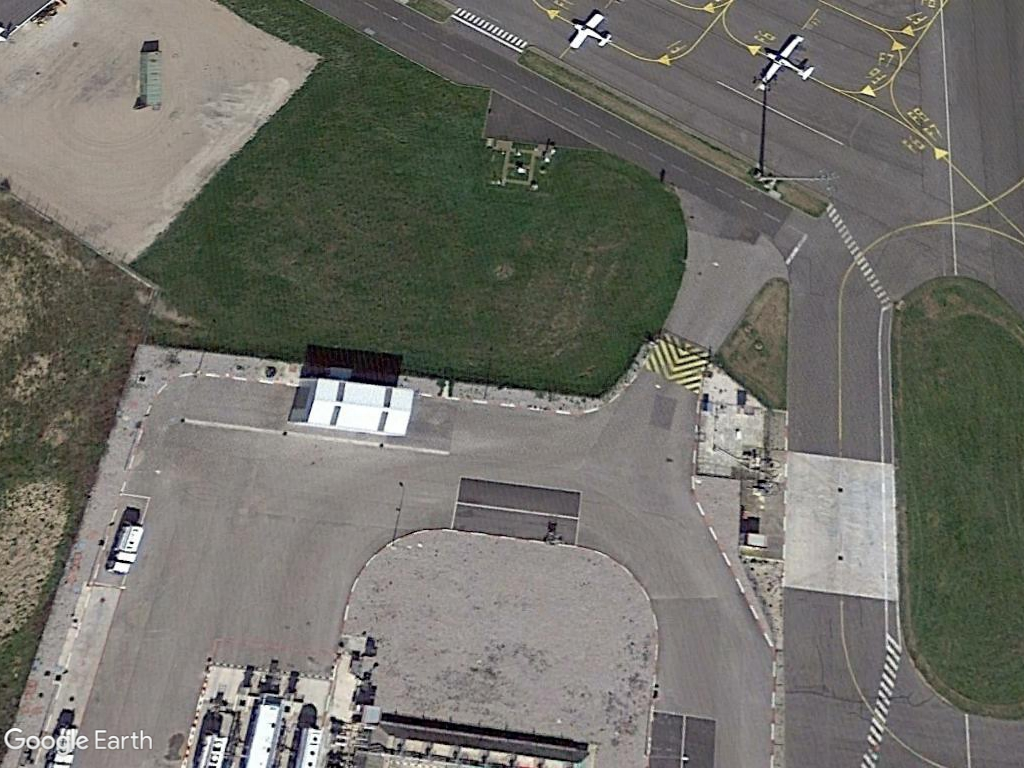truck: (102, 517, 146, 580)
